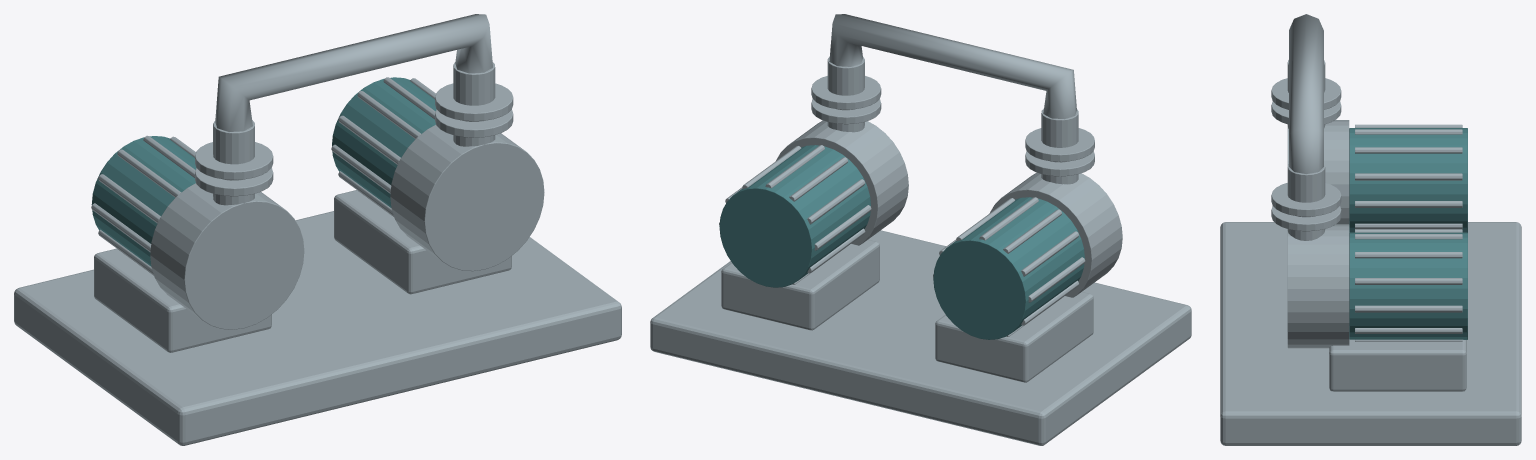
The model's file is RD_TwinCoolingPump.fbx.
3 views of the same model, side by side, from view 1: azimuth 30°, elevation 25°; view 2: azimuth 150°, elevation 25°; view 3: azimuth 270°, elevation 25° (orthographic). The views are drawn at different scales.
Parts seen in each view (by area): view 1: RD_TwinCoolingPump; view 2: RD_TwinCoolingPump; view 3: RD_TwinCoolingPump.
Part boxes in pixels (x1,y1,x2,y2): RD_TwinCoolingPump: [14, 14, 621, 445]; RD_TwinCoolingPump: [650, 14, 1191, 445]; RD_TwinCoolingPump: [1220, 14, 1521, 445].
Size of the model in its own units: 170 by 115 by 112.
